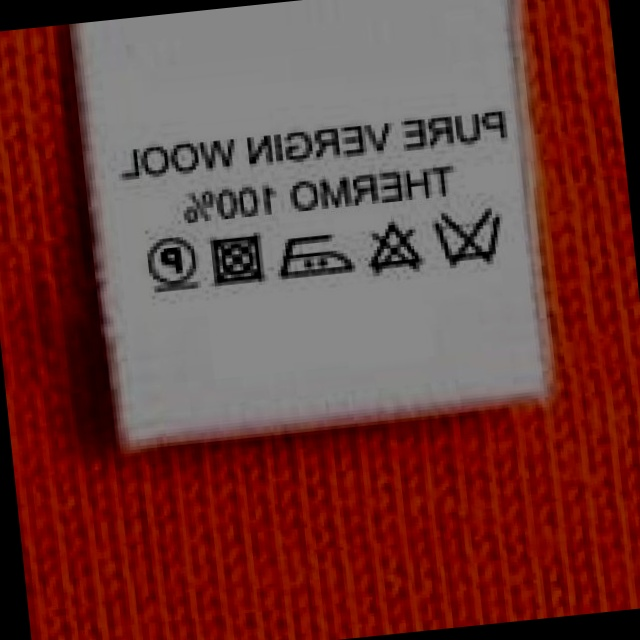DN_bleach: (362, 215, 423, 279)
DN_tumble_dry: (204, 229, 265, 291)
DN_wash: (428, 203, 510, 274)
dry_clean_any_solvent_except_trichloroethylene: (141, 229, 202, 297)
iron_medium: (275, 225, 357, 287)
